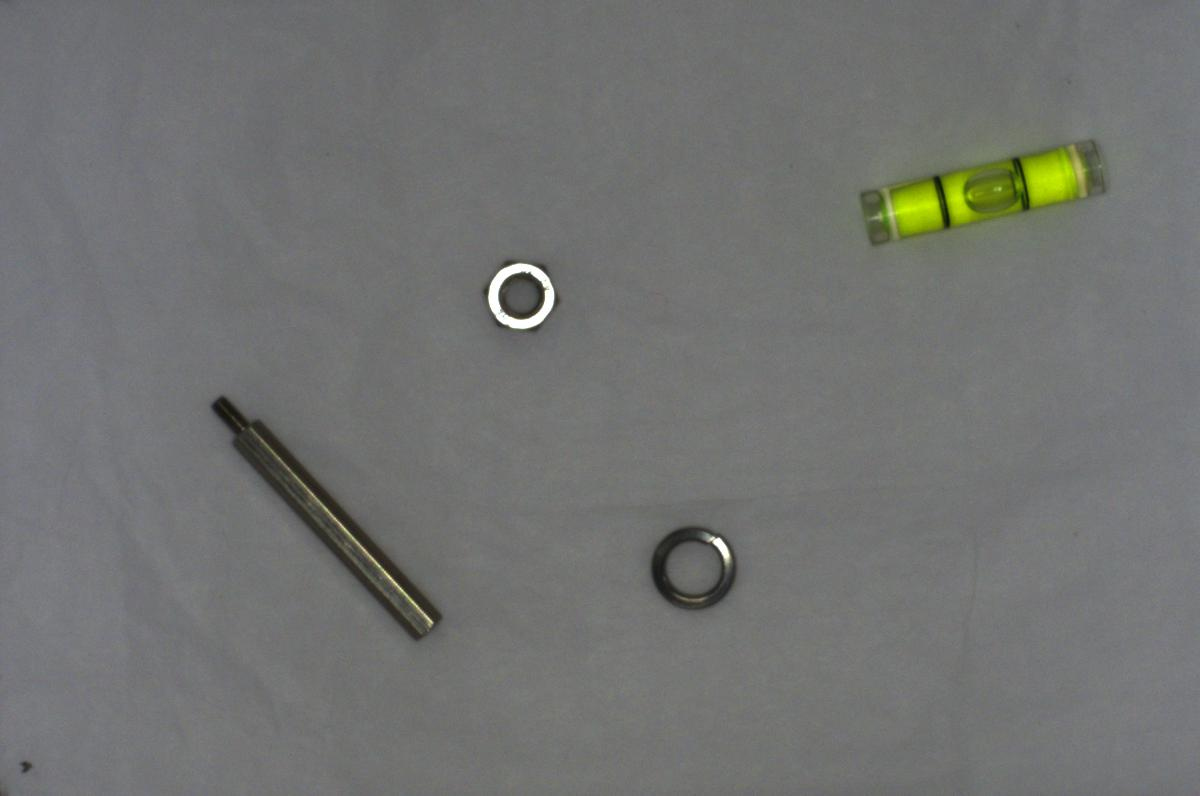Hexagon nut: (474, 252, 559, 338)
Hexagonal steel column: (205, 383, 445, 643)
Horizontal bubble: (861, 133, 1119, 248)
Spring washer: (641, 519, 748, 623)
